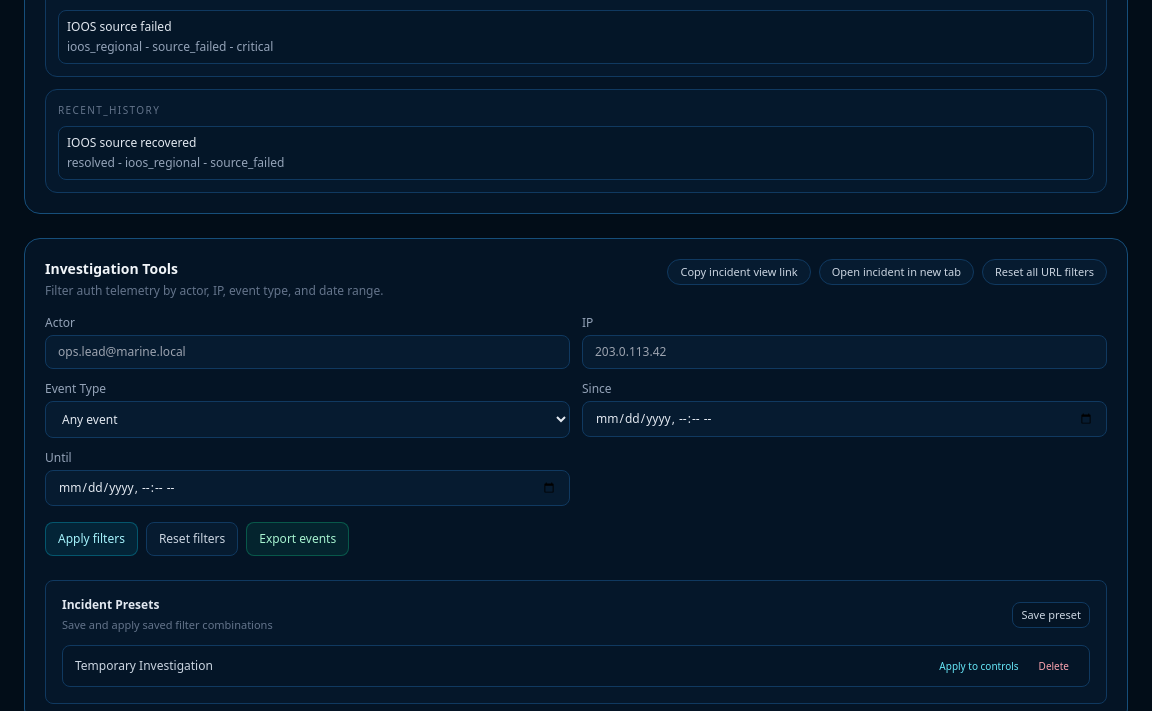
Test: security console deletes incident preset without affecting current filters
(page scrolled)
Expected: the text "Temporary Investigation" is shown, [75,658,213,674]
Type "active.user@marine.local" into the field labelled "Actor" at (308, 352), box [45,334,570,368]
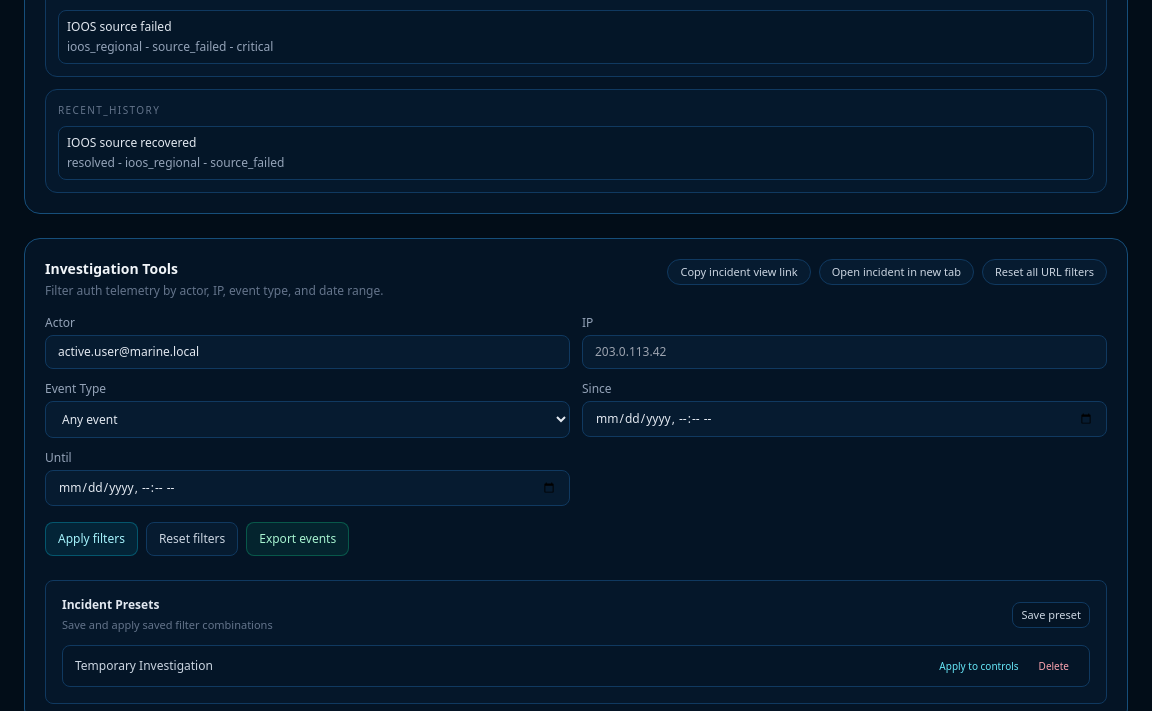
Click the button "Delete" at (1054, 666), box [1031,654,1077,678]
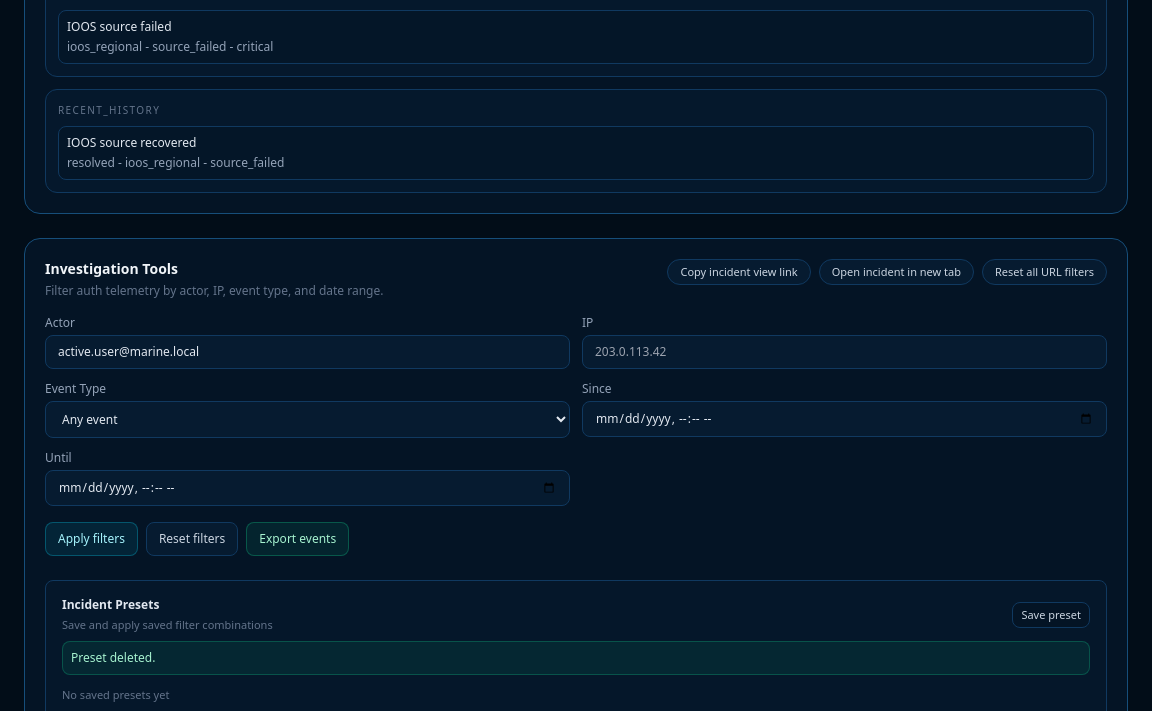
Expected: the text "Temporary Investigation" is gone
